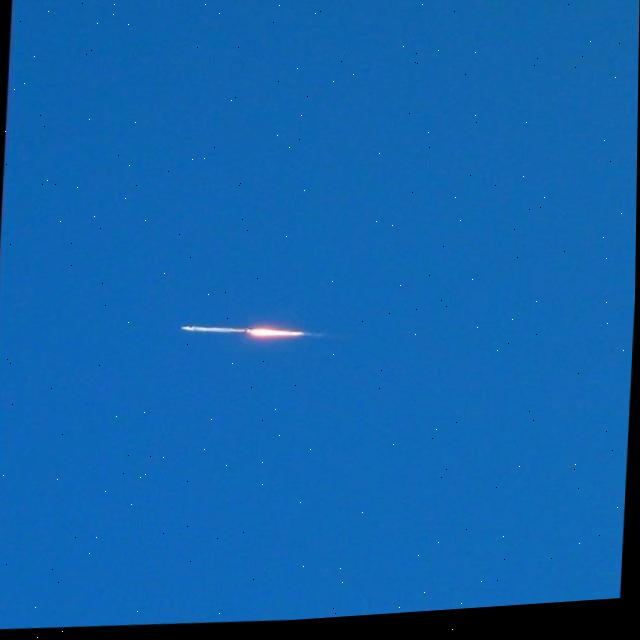missile: (178, 310, 252, 351)
